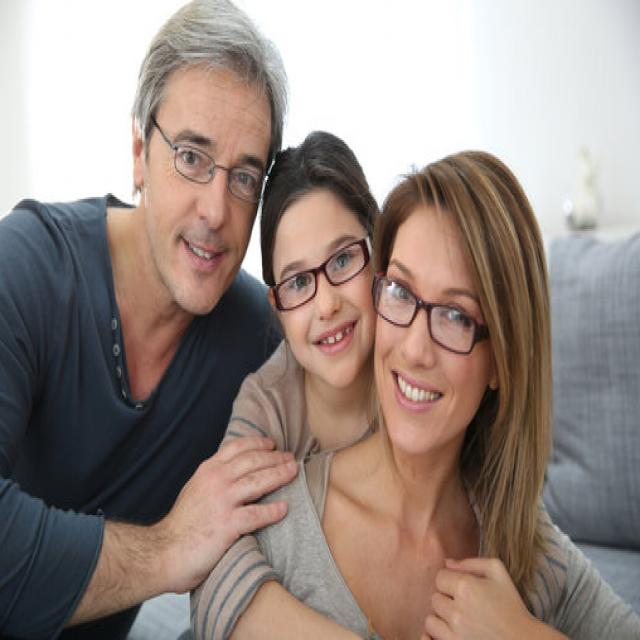Glasses: (153, 114, 271, 207), (372, 268, 490, 358), (272, 231, 374, 316)
